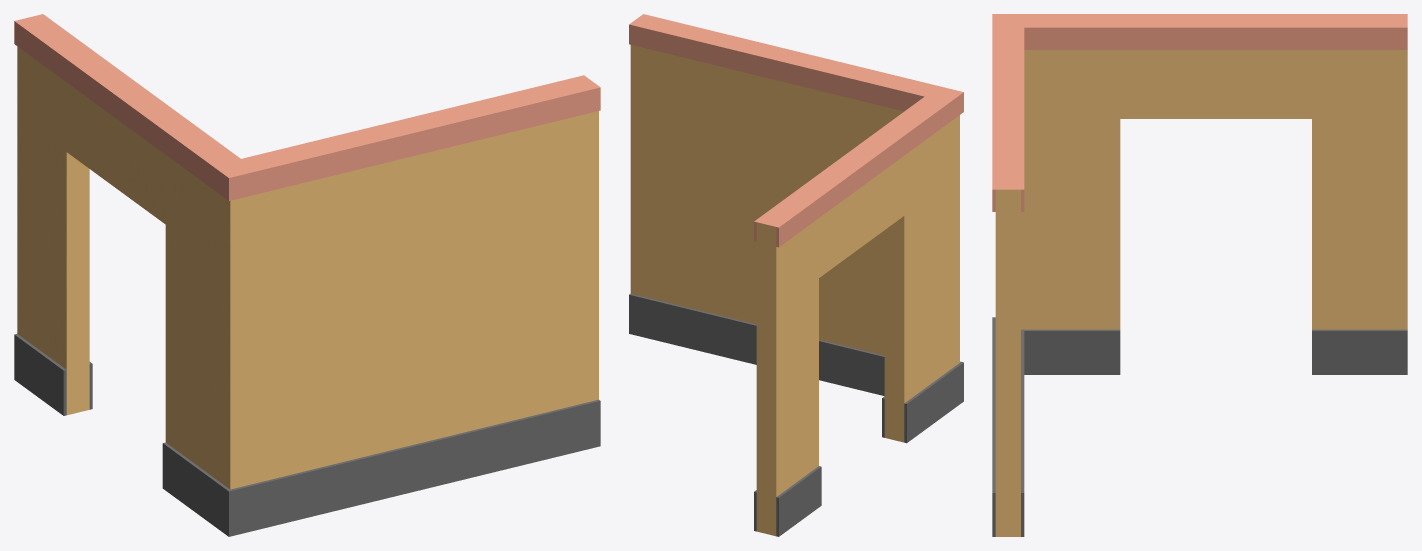
Rendered from Wall01-03.fbx.
3 views of the same model, side by side, from view 1: azimuth 30°, elevation 25°; view 2: azimuth 150°, elevation 25°; view 3: azimuth 270°, elevation 25° (orthographic). The views are drawn at different scales.
Visible parts, largest first — view 1: Wall01-03; view 2: Wall01-03; view 3: Wall01-03.
Part boxes in pixels (x1,y1,x2,y2): Wall01-03: (14, 14, 600, 536); Wall01-03: (629, 14, 963, 536); Wall01-03: (992, 14, 1407, 536).
Size of the model in its own units: 3.25 by 3.25 by 3.
